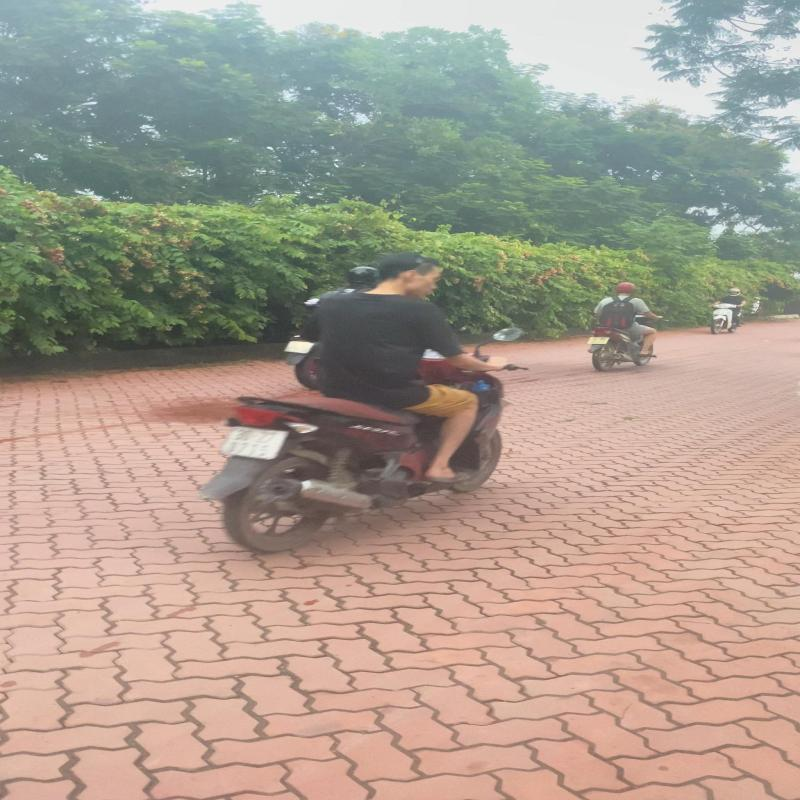licenseplate: (221, 428, 287, 460)
motorcyclist: (198, 250, 536, 552)
nohelmet: (378, 252, 446, 293)
